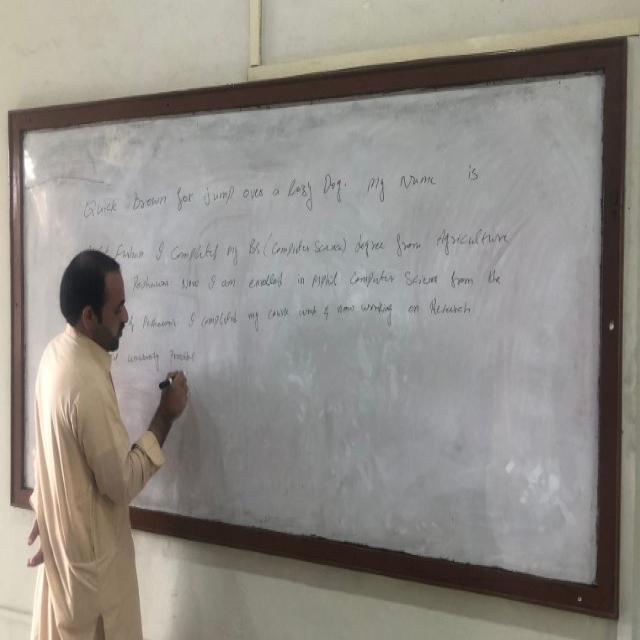Instructor: (30, 236, 140, 626)
White-board: (15, 61, 615, 608)
